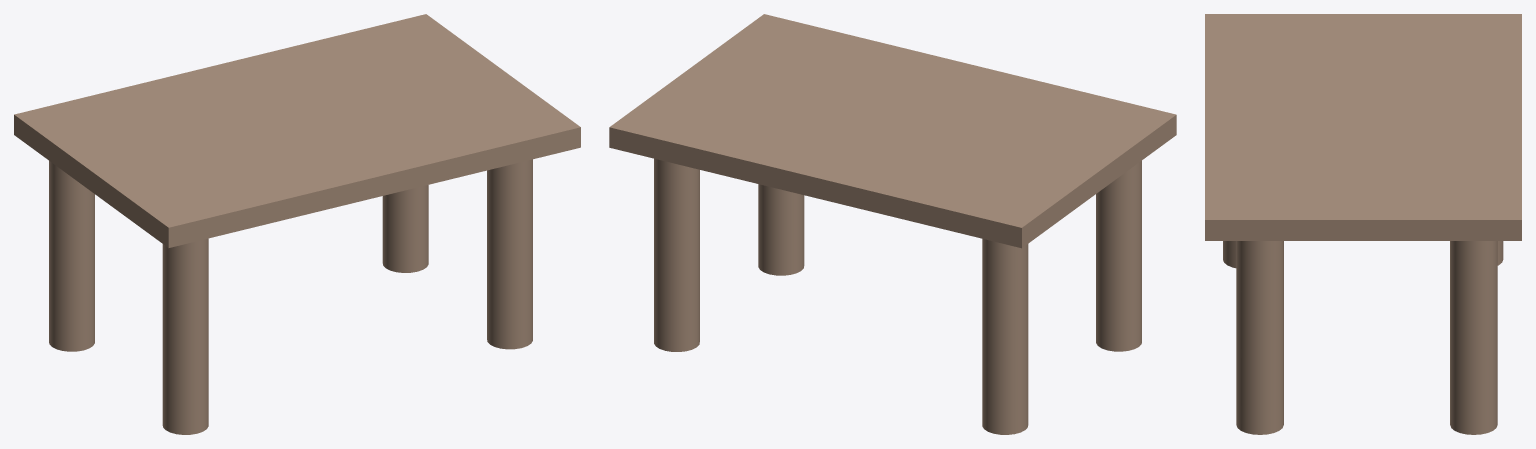
File: Desk_001.fbx
The picture shows the model from 3 angles, left to right: view 1: azimuth 30°, elevation 25°; view 2: azimuth 150°, elevation 25°; view 3: azimuth 270°, elevation 25°; orthographic projection. The views are drawn at different scales.
Parts seen in each view (by area): view 1: Desk_001; view 2: Desk_001; view 3: Desk_001.
Part boxes in pixels (x1,y1,x2,y2): Desk_001: (14,14,580,434); Desk_001: (609,14,1176,434); Desk_001: (1205,14,1521,434).
Bounding box in the file's own units: 178 × 91.36 × 116.
